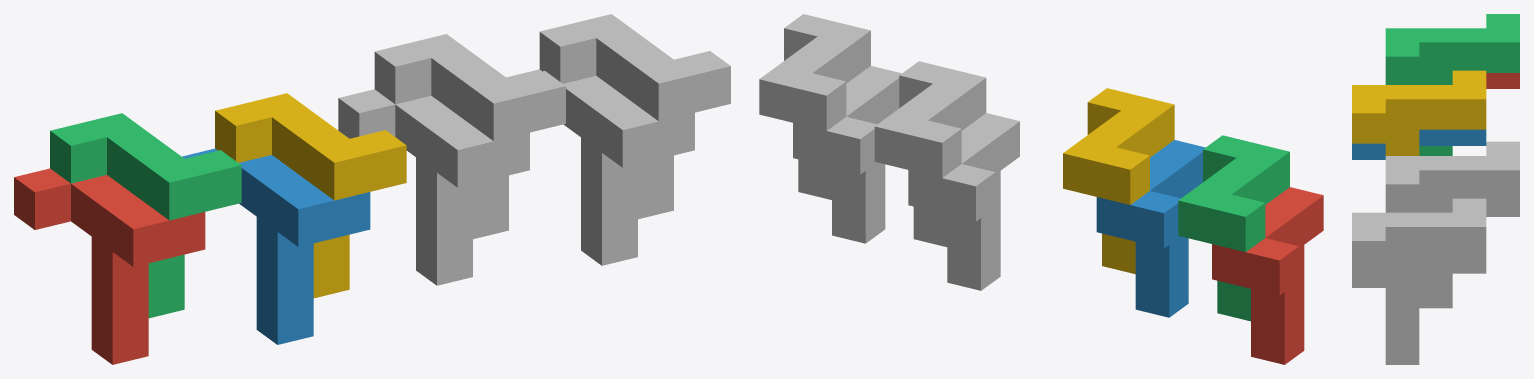
File: tiling.obj
3 views of the same model, side by side, from view 1: azimuth 30°, elevation 25°; view 2: azimuth 150°, elevation 25°; view 3: azimuth 270°, elevation 25° (orthographic). The views are drawn at different scales.
Visible parts, largest first — view 1: copy_1_domain_1, copy_1_domain_5, copy_1_domain_3, copy_1_domain_4, copy_1_domain_7, copy_1_domain_8, copy_1_domain_2, copy_1_domain_6; view 2: copy_1_domain_1, copy_1_domain_5, copy_1_domain_7, copy_1_domain_3, copy_1_domain_4, copy_1_domain_8, copy_1_domain_2, copy_1_domain_6; view 3: copy_1_domain_8, copy_1_domain_7, copy_1_domain_4, copy_1_domain_3, copy_1_domain_6, copy_1_domain_2, copy_1_domain_5, copy_1_domain_1.
Part boxes in pixels (<box>): copy_1_domain_1: <box>14,168,205,364</box>; copy_1_domain_5: <box>338,89,529,285</box>; copy_1_domain_3: <box>50,113,241,318</box>; copy_1_domain_4: <box>215,93,406,298</box>; copy_1_domain_7: <box>374,34,565,239</box>; copy_1_domain_8: <box>539,14,730,219</box>; copy_1_domain_2: <box>182,148,370,344</box>; copy_1_domain_6: <box>506,69,694,265</box>; copy_1_domain_1: <box>1212,187,1323,364</box>; copy_1_domain_5: <box>908,113,1019,290</box>; copy_1_domain_7: <box>874,61,986,246</box>; copy_1_domain_3: <box>1178,135,1289,321</box>; copy_1_domain_4: <box>1063,88,1174,274</box>; copy_1_domain_8: <box>759,14,870,199</box>; copy_1_domain_2: <box>1096,140,1205,317</box>; copy_1_domain_6: <box>793,66,901,243</box>; copy_1_domain_8: <box>1352,198,1486,348</box>; copy_1_domain_7: <box>1385,141,1519,291</box>; copy_1_domain_4: <box>1352,70,1486,155</box>; copy_1_domain_3: <box>1385,14,1519,155</box>; copy_1_domain_6: <box>1352,257,1486,364</box>; copy_1_domain_2: <box>1352,129,1486,159</box>; copy_1_domain_5: <box>1419,200,1519,308</box>; copy_1_domain_1: <box>1486,73,1519,88</box>.
Bounding box in the file's own units: 17 × 5 × 5.
